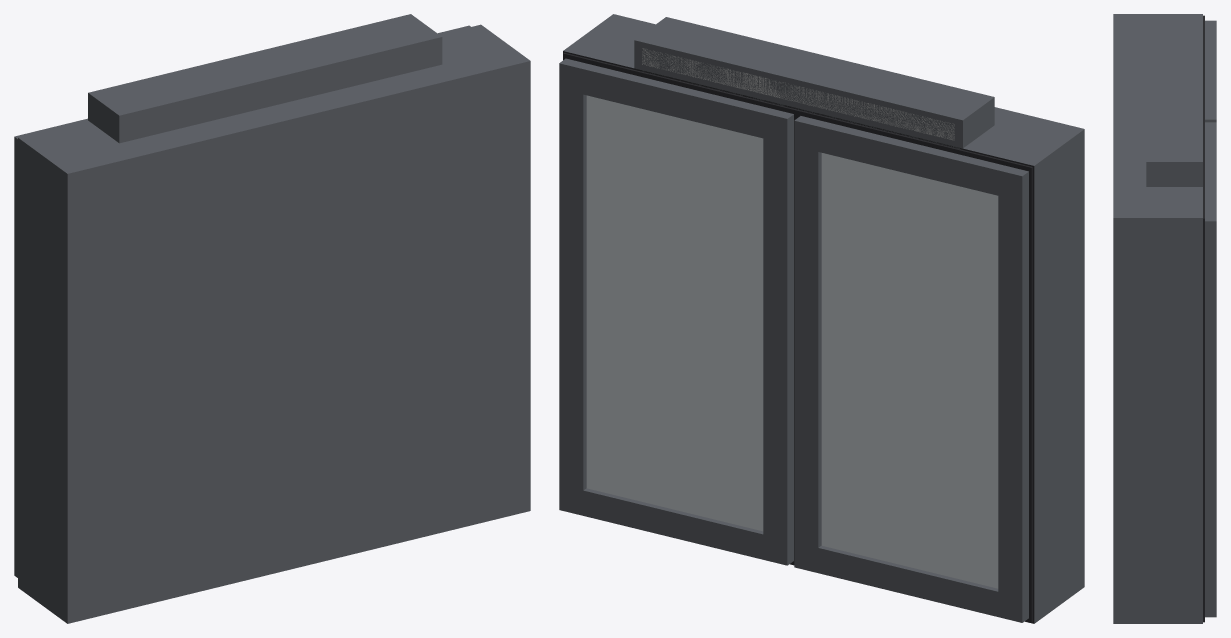
The model's file is FN_Cabinet_Bathroom.obj.
3 views of the same model, side by side, from view 1: azimuth 30°, elevation 25°; view 2: azimuth 150°, elevation 25°; view 3: azimuth 270°, elevation 25° (orthographic). The views are drawn at different scales.
Visible parts, largest first — view 1: FN_Cabinet_Bathroom; view 2: FN_Cabinet_Bathroom; view 3: FN_Cabinet_Bathroom.
Boxes of the visible parts, left/top/right/bottom form: FN_Cabinet_Bathroom: left=14, top=14, right=530, bottom=623; FN_Cabinet_Bathroom: left=559, top=14, right=1084, bottom=623; FN_Cabinet_Bathroom: left=1113, top=14, right=1216, bottom=623.
Bounding box in the file's own units: 0.7 × 0.69 × 0.15.
2 materials, 1 textured.
